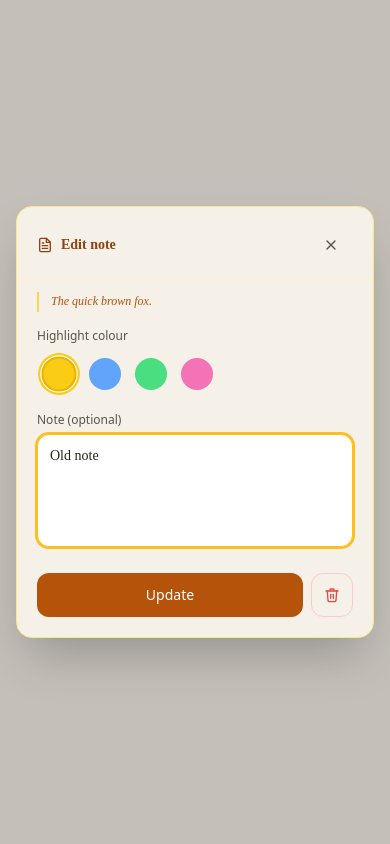
Test: AnnotationToolbar close guard during async operations (issue #2406) › close button is disabled while delete is in flight
Click the button named "Delete note".
click(332, 595)  # box x1=311 y1=573 x2=353 y2=617
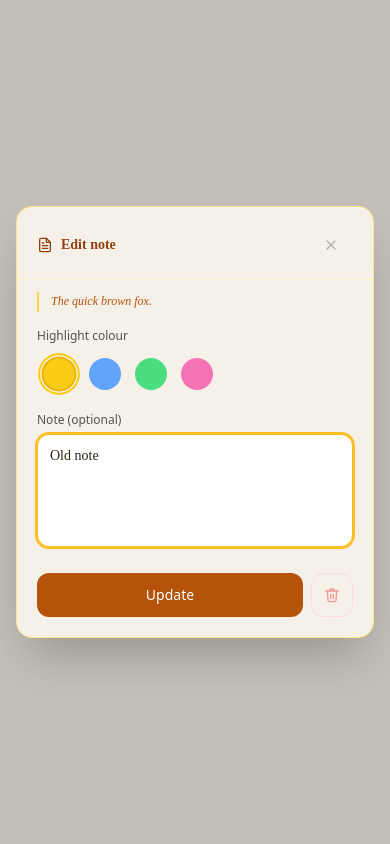
Expected: the button named "Close note editor" is disabled, x1=309 y1=223 x2=353 y2=267
